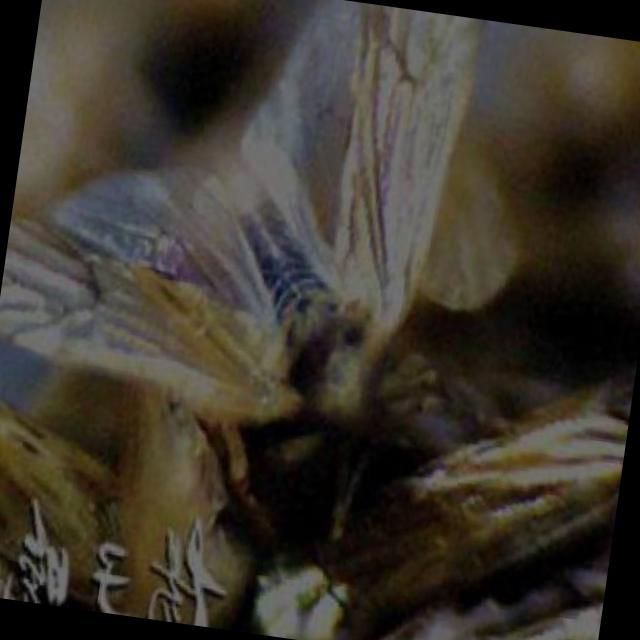brown-planthopper: (0, 0, 489, 473)
